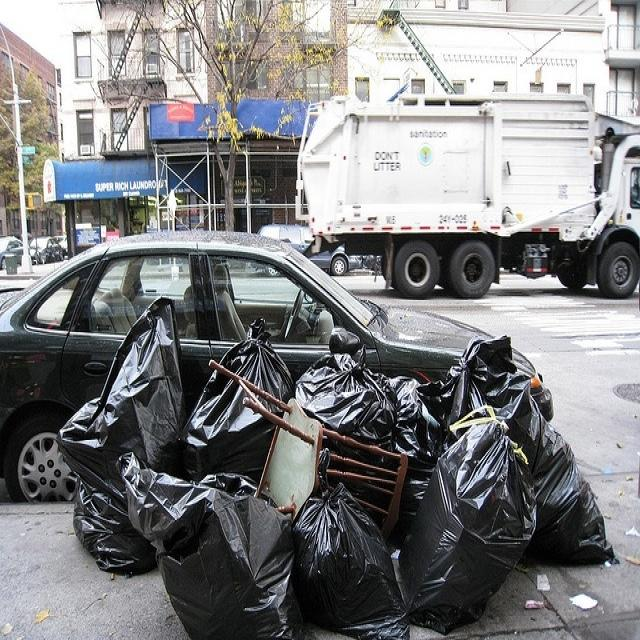Metal: (0, 190, 540, 414), (296, 0, 640, 240)
